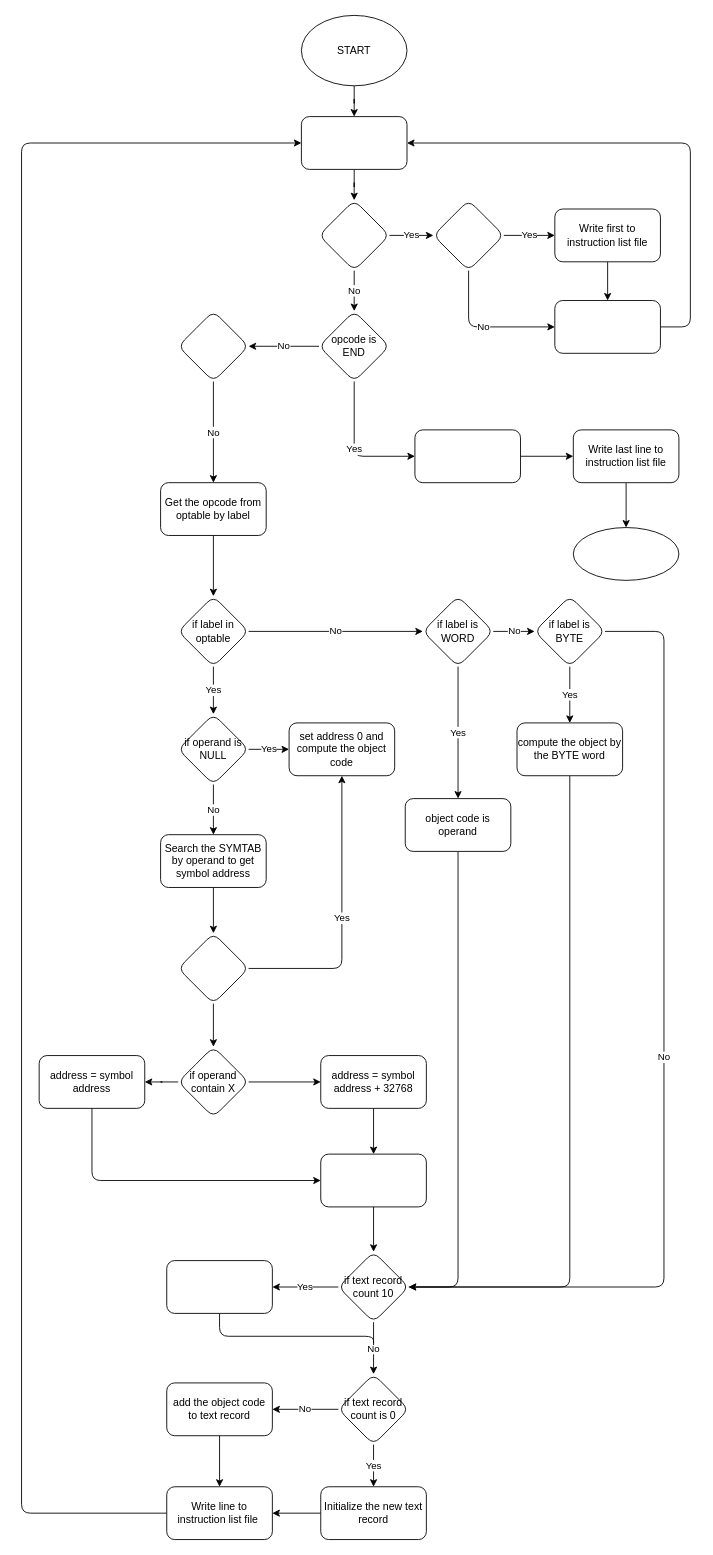
The diagram is 713 pixels wide and 1555 high, and some of its shapes have lost their labels. Here are the shapes that lost their labels. From the top down, the centre of each, then its label:
the point at 354,142: Read intermediate file
the point at 353,235: if first line
the point at 468,235: opcode is START
the point at 213,345: if a comment line
the point at 607,326: Write header record to object program
the point at 467,456: Write the last text record and last line to object program
the point at 625,553: END
the point at 213,968: if symbol address is -1
the point at 373,1180: compute object code
the point at 219,1286: Write text record to object program and set the text record to 0
